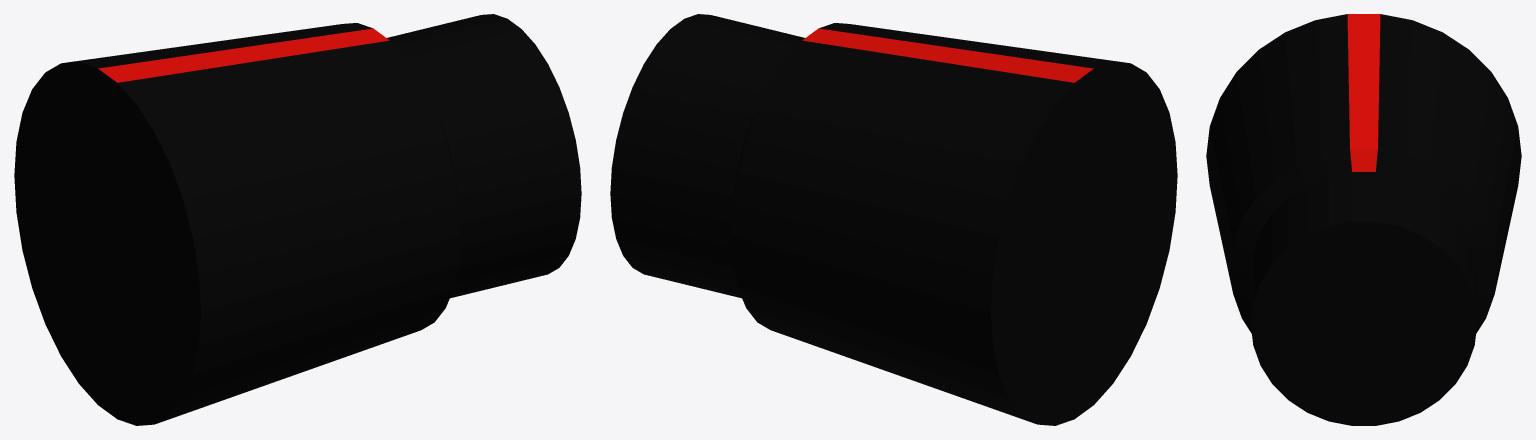
The model's file is Kenop Bener.fbx.
3 renders of one model, left to right at view 1: azimuth 30°, elevation 25°; view 2: azimuth 150°, elevation 25°; view 3: azimuth 270°, elevation 25°, orthographic. The views are drawn at different scales.
Visible parts, largest first — view 1: Cylinder; view 2: Cylinder; view 3: Cylinder.
Part boxes in pixels (x1,y1,x2,y2): Cylinder: [14, 14, 581, 425]; Cylinder: [610, 14, 1177, 425]; Cylinder: [1206, 14, 1521, 425].
Size of the model in its own units: 297 by 235 by 236.
